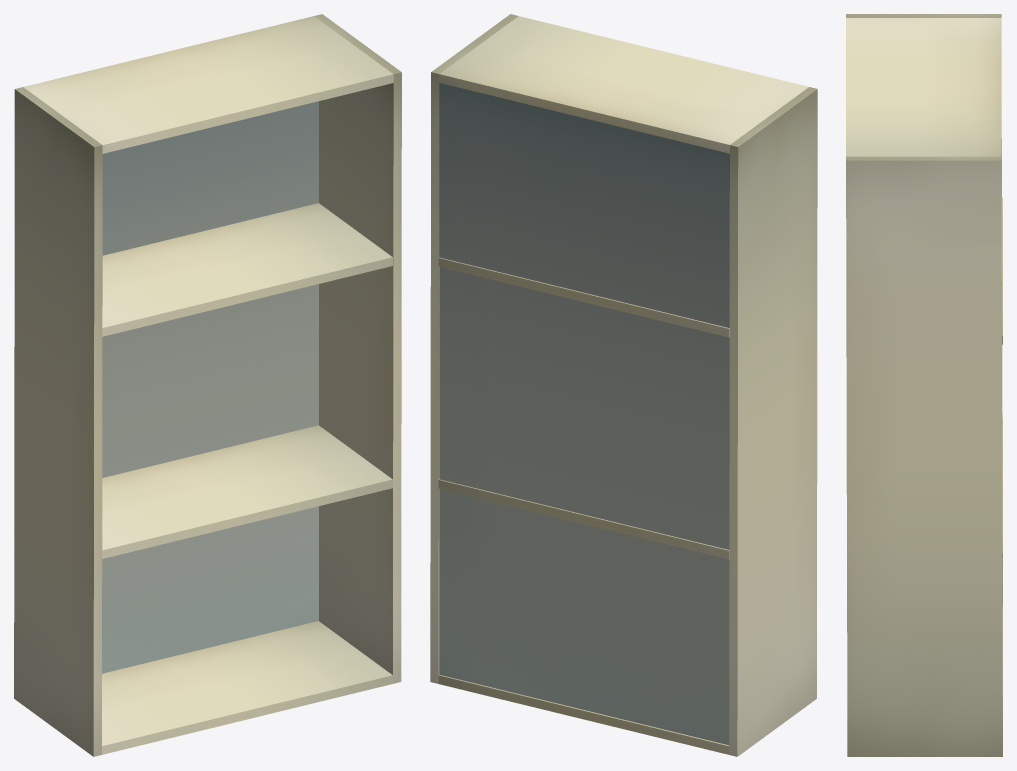
Rendered from cabin02aaaa.fbx.
3 renders of one model, left to right at view 1: azimuth 30°, elevation 25°; view 2: azimuth 150°, elevation 25°; view 3: azimuth 270°, elevation 25°, orthographic. The views are drawn at different scales.
Visible parts, largest first — view 1: cabin02aaaa; view 2: cabin02aaaa; view 3: cabin02aaaa.
Boxes of the visible parts, box(x1,y1,x2,y2) form: cabin02aaaa: box(14, 14, 401, 756); cabin02aaaa: box(430, 14, 817, 756); cabin02aaaa: box(846, 14, 1002, 756).
Size of the model in its own units: 0.7397 by 1.4 by 0.3345.
